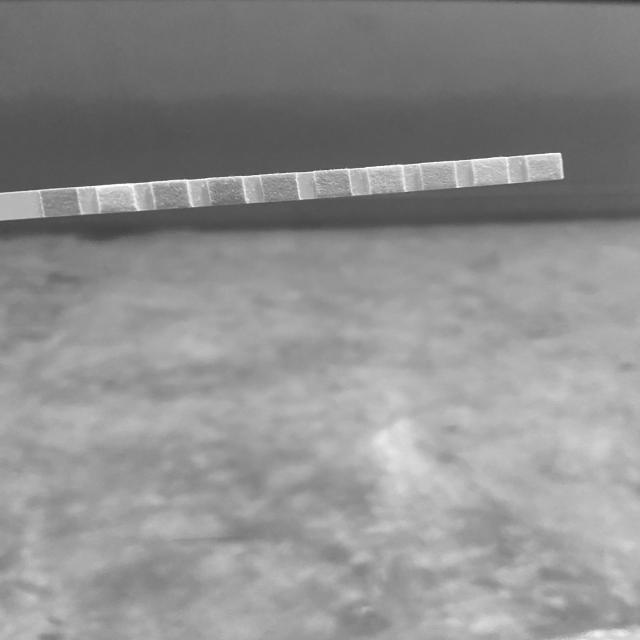Bilirubin: (101, 186, 133, 212)
Blood: (266, 175, 295, 200)
Glucose: (46, 191, 76, 215)
Ketone: (158, 184, 186, 208)
Leukocytes: (530, 156, 560, 180)
Nitrite: (476, 160, 506, 184)
Protein: (372, 168, 402, 192)
SpGravity: (212, 179, 242, 204)
Urobilinogen: (424, 163, 454, 188)
background: (0, 0, 640, 640)
pH: (320, 172, 348, 196)
strip: (0, 153, 564, 221)
